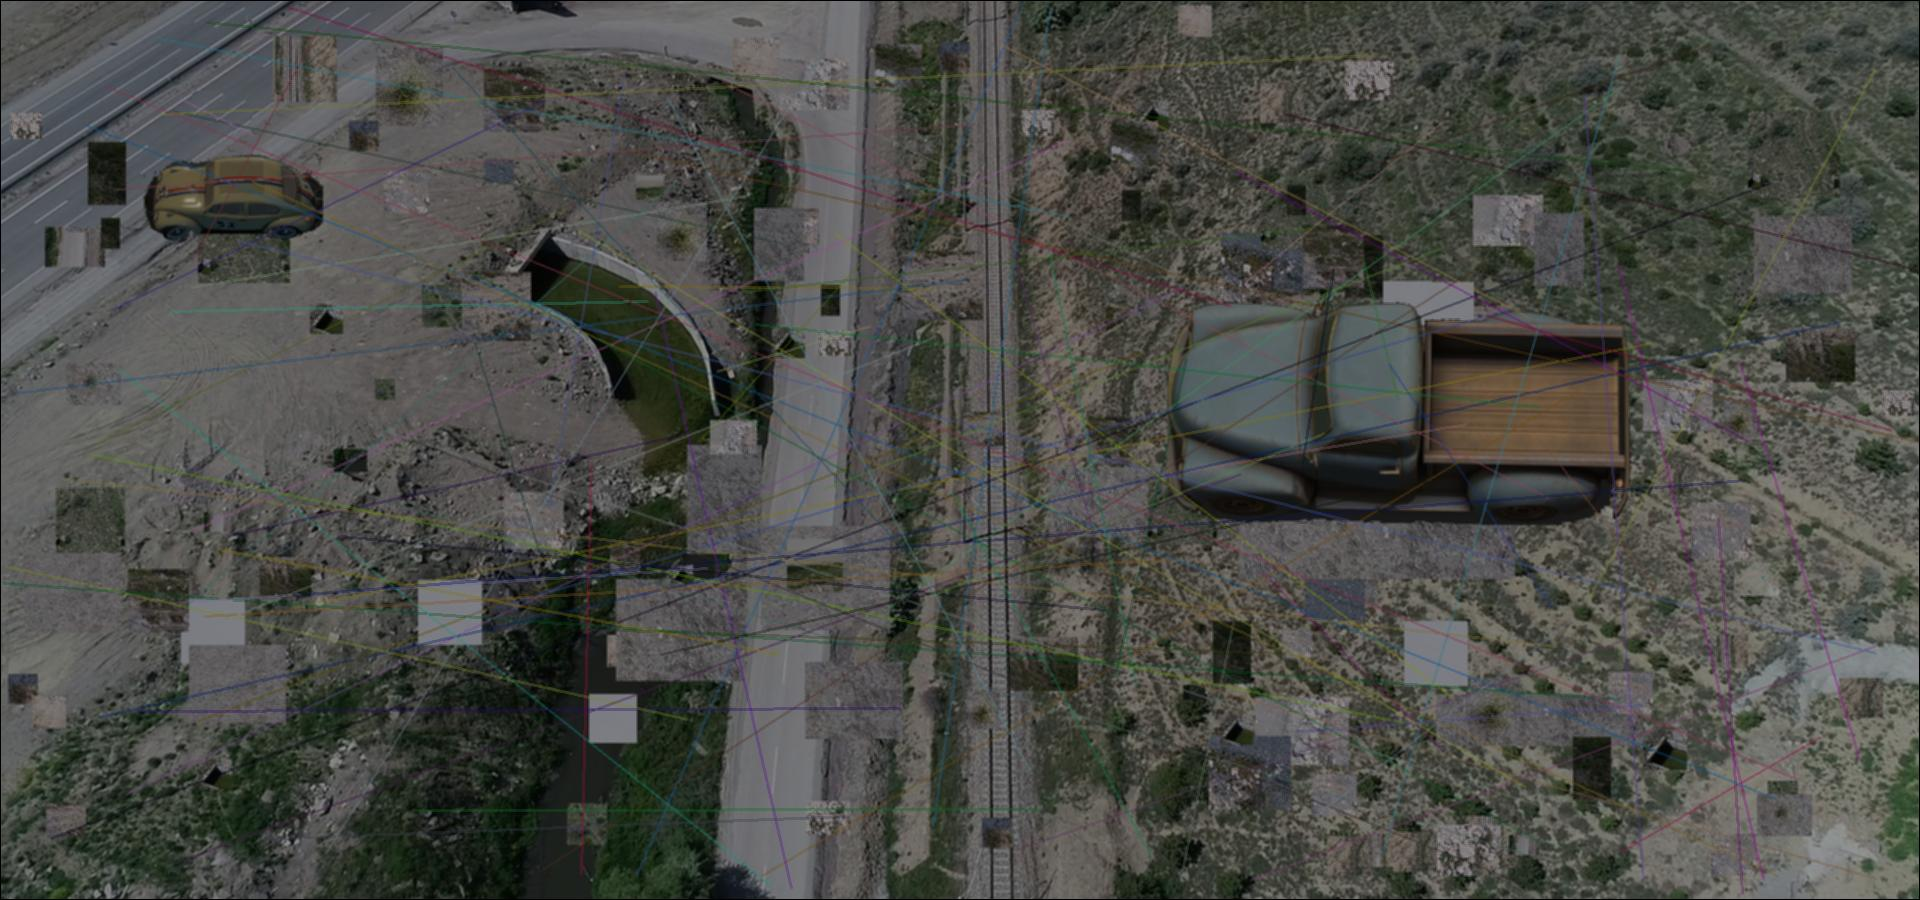arac: (1167, 287, 1635, 525), (143, 153, 323, 242)
